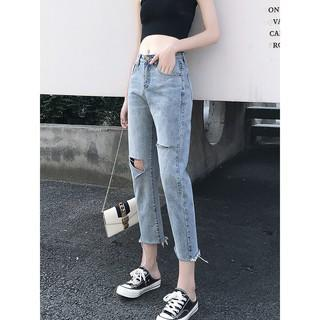pants: (125, 53, 202, 262)
